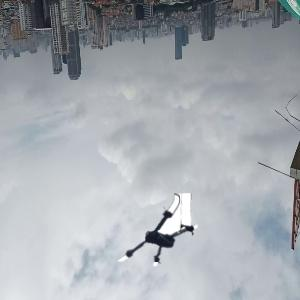drone: (114, 195, 200, 281)
